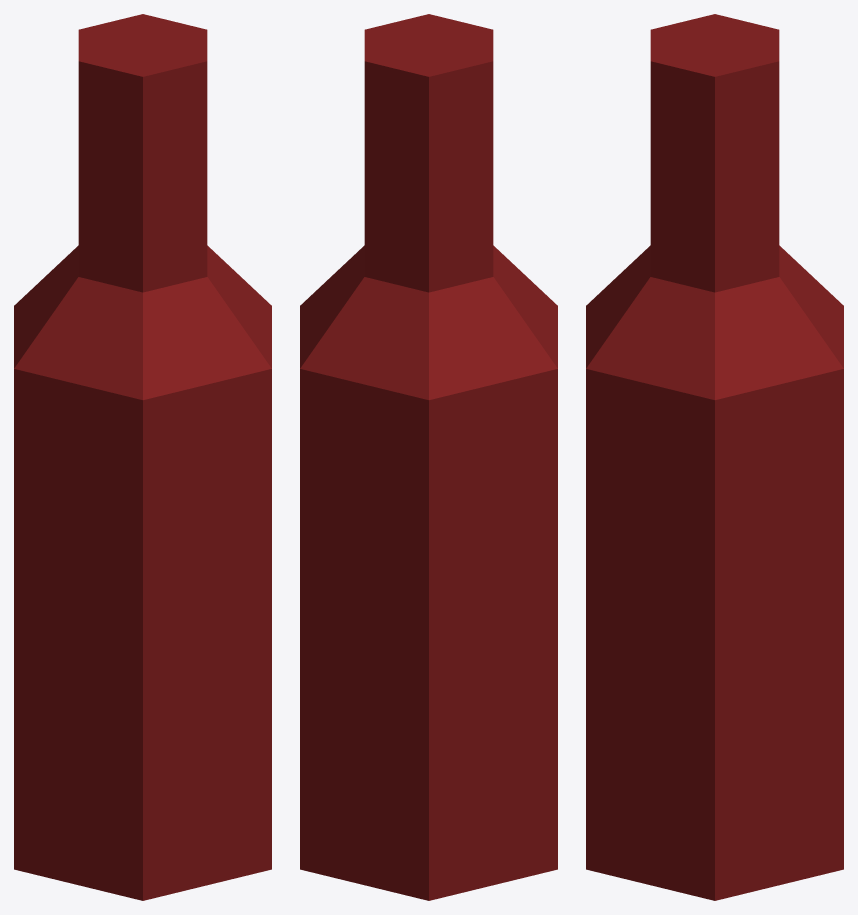
The model's file is bottle_red.fbx.
3 renders of one model, left to right at view 1: azimuth 30°, elevation 25°; view 2: azimuth 150°, elevation 25°; view 3: azimuth 270°, elevation 25°, orthographic.
Visible parts, largest first — view 1: bottle_red; view 2: bottle_red; view 3: bottle_red.
Boxes of the visible parts, x1=… form: bottle_red: x1=14, y1=14, x2=271, y2=900; bottle_red: x1=300, y1=14, x2=557, y2=900; bottle_red: x1=586, y1=14, x2=843, y2=900.
Bounding box in the file's own units: 16.32 × 47.93 × 14.14.
